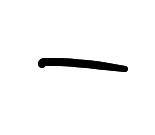minus: (34, 55, 129, 75)
